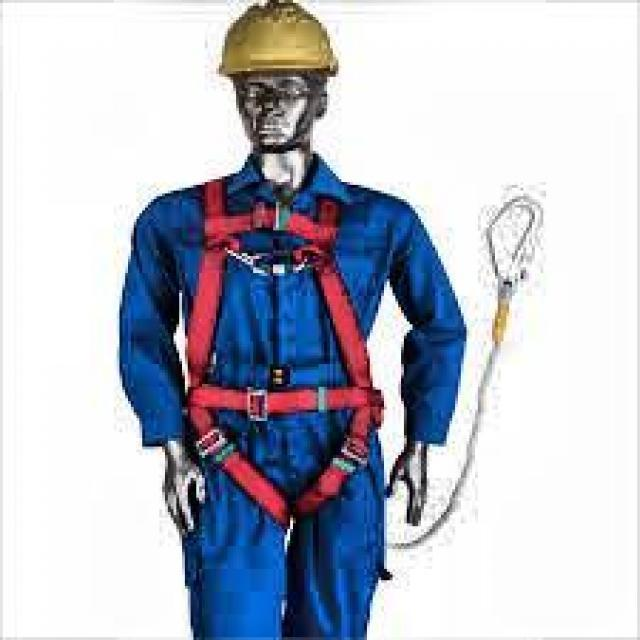belt: (173, 176, 387, 518)
